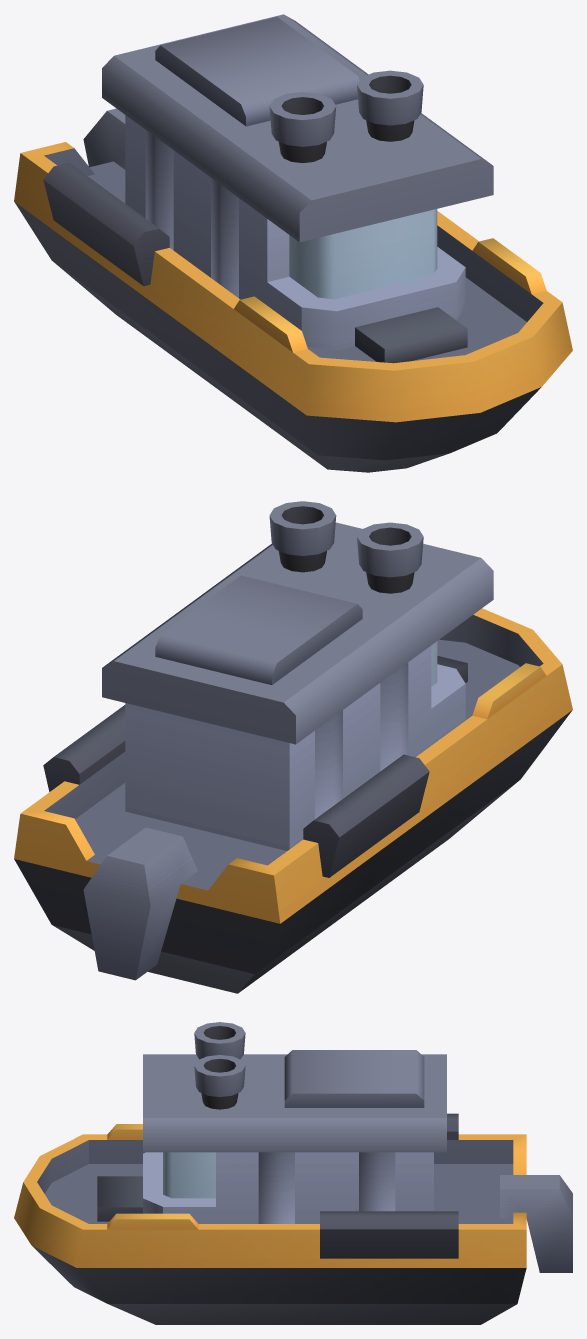
File: boat-tow-b-transformed-transformed.glb
3 views of the same model, one above another, from view 1: azimuth 30°, elevation 25°; view 2: azimuth 150°, elevation 25°; view 3: azimuth 270°, elevation 25° (orthographic). The views are drawn at different scales.
Parts seen in each view (by area): view 1: boat-tow-b; view 2: boat-tow-b; view 3: boat-tow-b.
Boxes of the visible parts, left/top/right/bottom form: boat-tow-b: left=14, top=14, right=572, bottom=472; boat-tow-b: left=14, top=501, right=572, bottom=993; boat-tow-b: left=14, top=1022, right=572, bottom=1324.
Size of the model in its own units: 2.88 by 3.05 by 6.12.
Materials: 1 (1 with a texture image).
